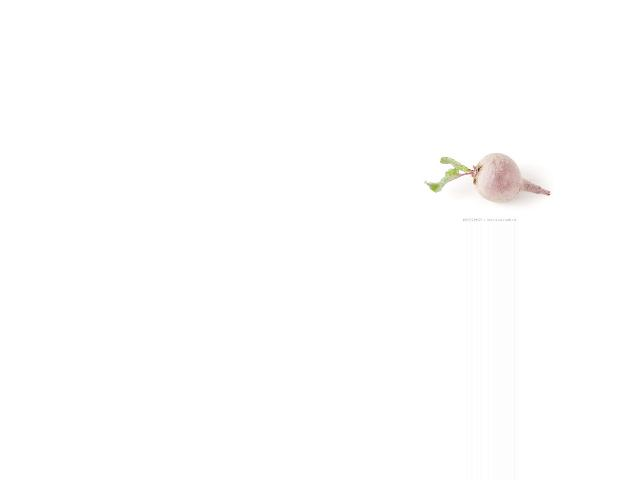beet: (423, 153, 548, 202)
